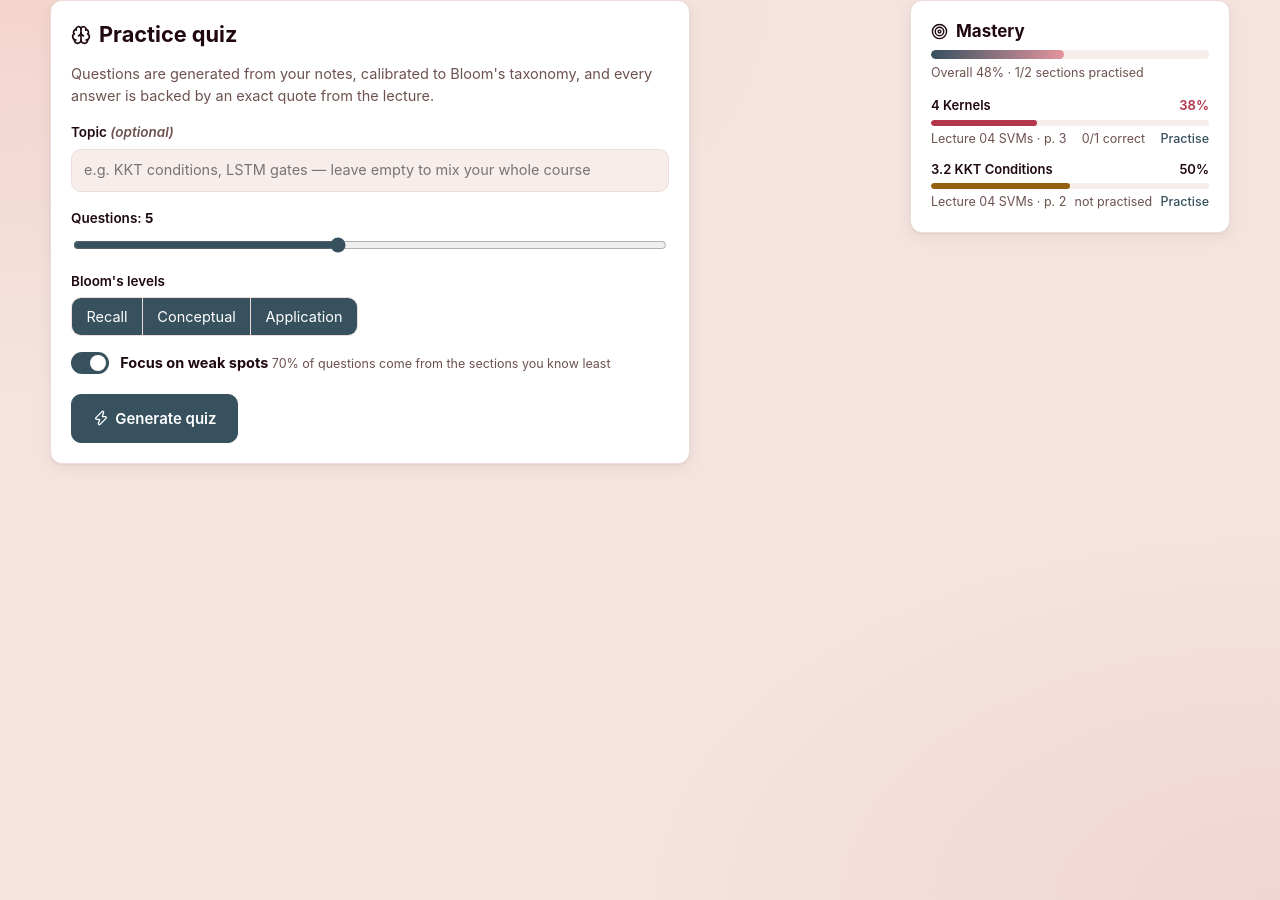
Scenario: Quiz › shows generation progress and server errors
The width and height of the screenshot is (1280, 900).
Click the button "Generate quiz".
click(155, 418)  # box [71,394,238,443]
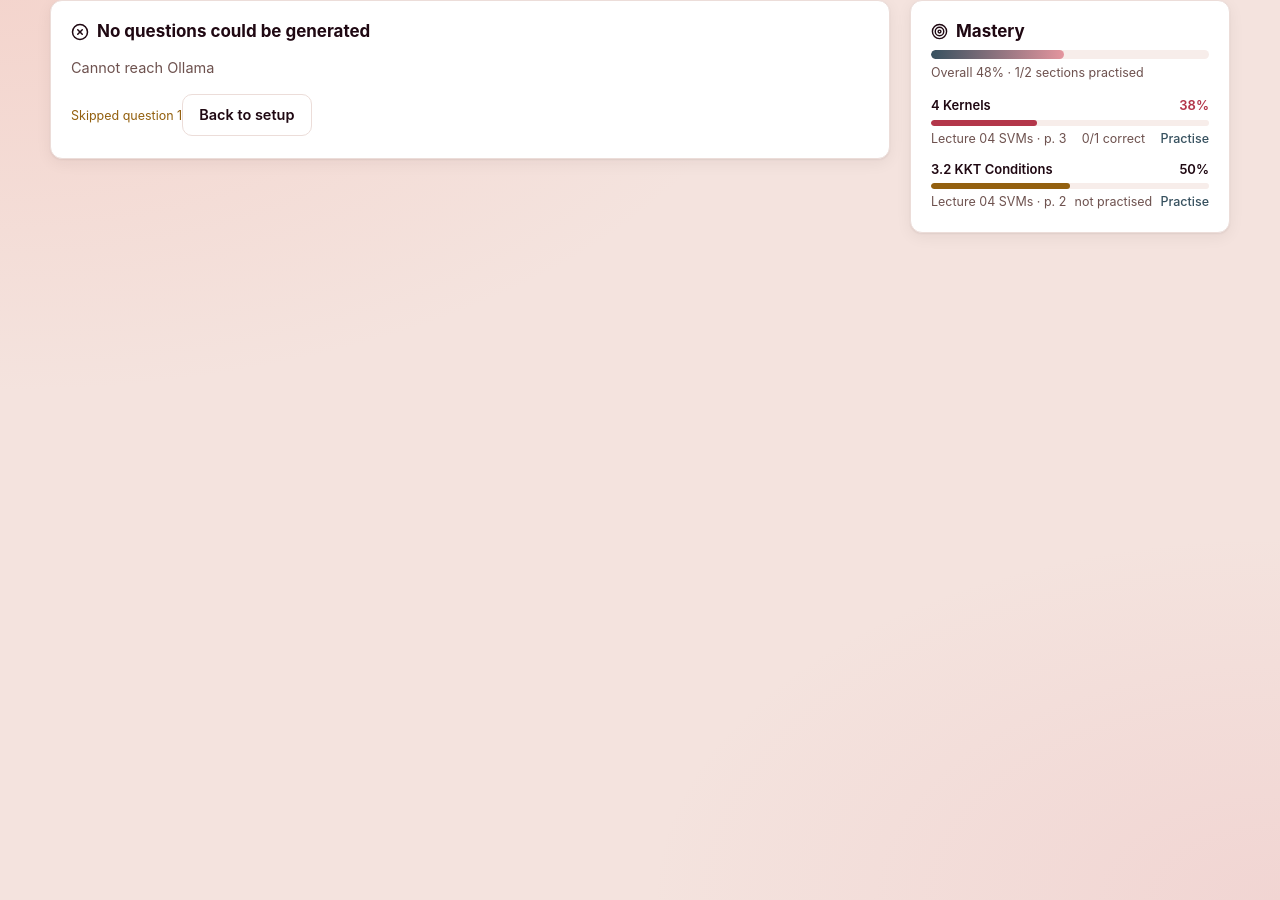
Expected: the heading "No questions could be generated" is shown, [71,21,370,41]
Expected: the text "Cannot reach Ollama" is shown, [71,59,214,76]
Expected: the text "Skipped question 1" is shown, [71,106,182,126]
